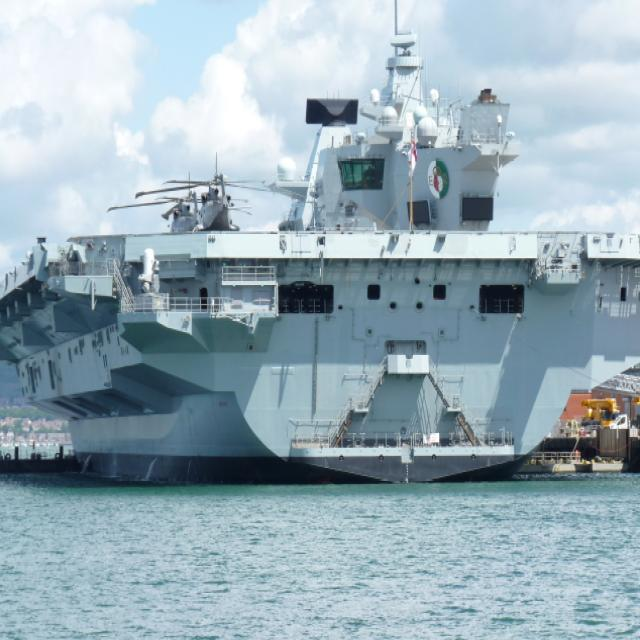Portanaves: (1, 1, 640, 493)
